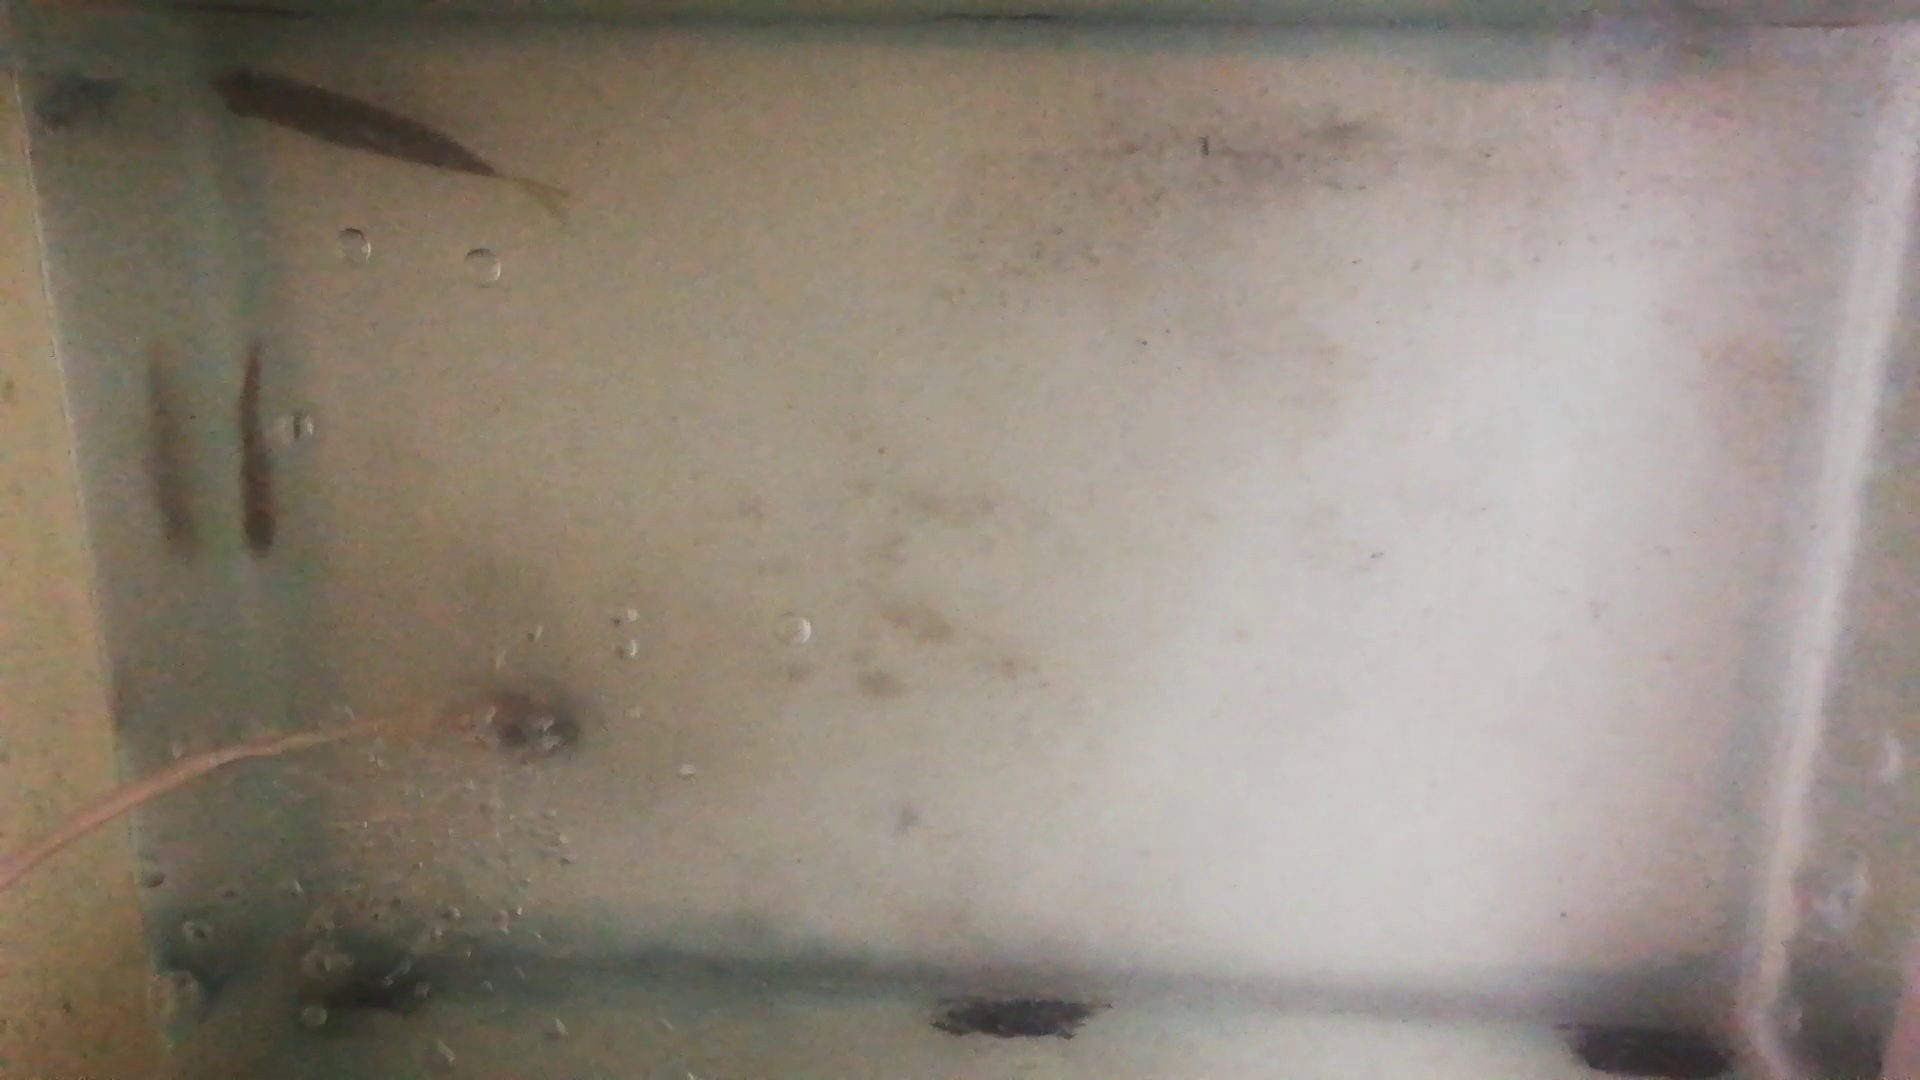fish: (207, 63, 493, 173), (232, 352, 280, 556)
